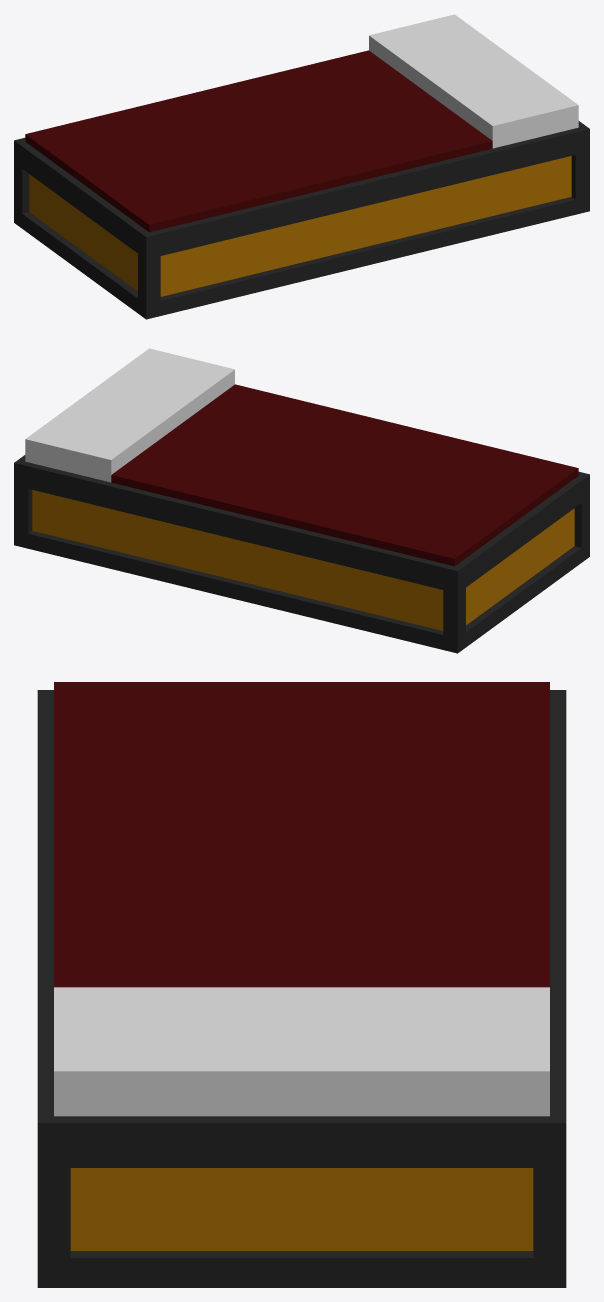
File: Bed.obj
3 views of the same model, one above another, from view 1: azimuth 30°, elevation 25°; view 2: azimuth 150°, elevation 25°; view 3: azimuth 270°, elevation 25° (orthographic). The views are drawn at different scales.
Size of the model in its own units: 6.2 by 1.4 by 3.2.
Materials: 1 (1 with a texture image).
